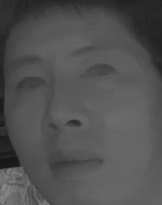eye: (80, 61, 116, 83), (14, 73, 48, 92)
mouth: (44, 142, 106, 181)
